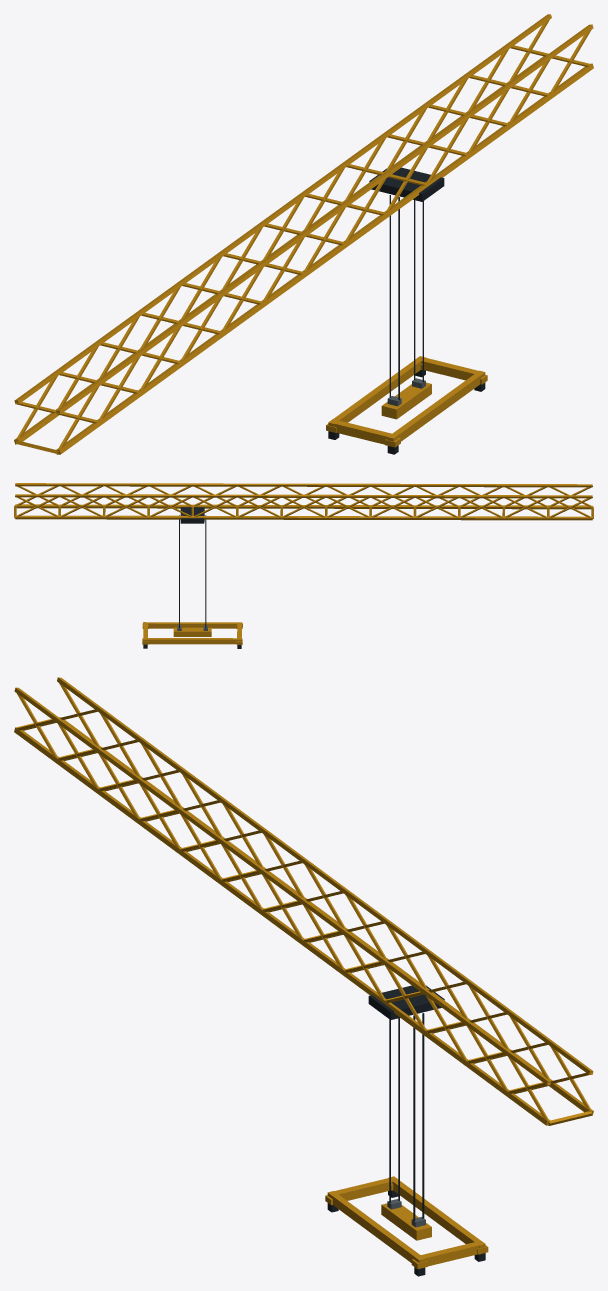
The model's file is SeaportSystem-02-ShipToShoreGantryCrane-03-CraneTip-1-02.glb.
3 renders of one model, top to bottom at view 1: azimuth 30°, elevation 25°; view 2: azimuth 150°, elevation 25°; view 3: azimuth 270°, elevation 25°, orthographic. The views are drawn at different scales.
Parts seen in each view (by area): view 1: SeaportSystem-02-ShipToShoreGantryCrane-03-CraneTip-1-02; view 2: SeaportSystem-02-ShipToShoreGantryCrane-03-CraneTip-1-02; view 3: SeaportSystem-02-ShipToShoreGantryCrane-03-CraneTip-1-02.
Part boxes in pixels (<box>): SeaportSystem-02-ShipToShoreGantryCrane-03-CraneTip-1-02: <box>14,14,593,454</box>; SeaportSystem-02-ShipToShoreGantryCrane-03-CraneTip-1-02: <box>14,483,593,648</box>; SeaportSystem-02-ShipToShoreGantryCrane-03-CraneTip-1-02: <box>14,677,593,1276</box>.
Size of the model in its own units: 64.92 by 20.9 by 39.23.
